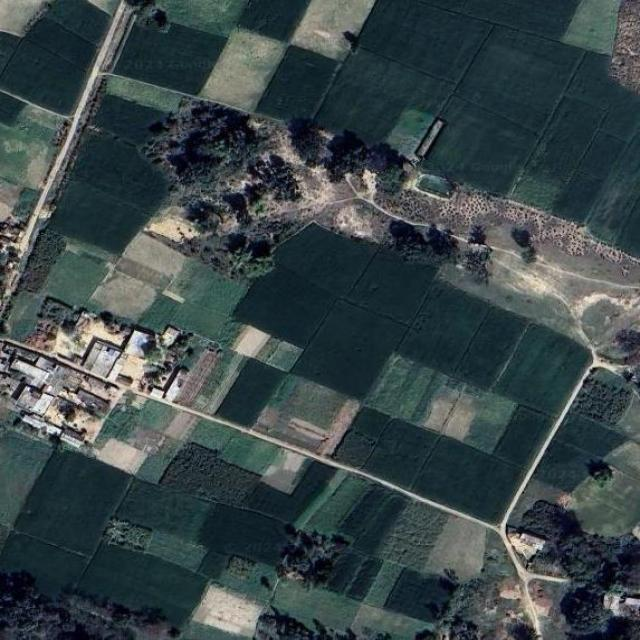land-Sx1C: (316, 50, 450, 143), (458, 27, 580, 129), (15, 451, 131, 554), (293, 300, 405, 397), (360, 0, 490, 81), (79, 544, 208, 624), (428, 98, 536, 193), (414, 438, 521, 522), (493, 325, 591, 413), (400, 282, 487, 374), (70, 133, 170, 213), (235, 269, 336, 347), (115, 24, 226, 93), (50, 180, 150, 253), (275, 224, 376, 296), (200, 29, 287, 111), (567, 51, 638, 144), (348, 251, 437, 323), (160, 442, 260, 506), (0, 40, 86, 113), (531, 98, 605, 182), (423, 0, 578, 39), (455, 306, 527, 388), (116, 480, 212, 541), (257, 46, 337, 119), (586, 134, 638, 243), (365, 354, 446, 423), (246, 461, 336, 522), (0, 104, 64, 189), (0, 533, 86, 593), (200, 504, 286, 564), (0, 431, 53, 528), (365, 419, 438, 487), (292, 0, 375, 59), (215, 359, 287, 426), (377, 501, 447, 569), (571, 469, 640, 536), (276, 525, 348, 585), (170, 259, 247, 314), (272, 581, 360, 629), (269, 375, 347, 429), (425, 516, 486, 580), (92, 95, 168, 145), (305, 477, 371, 534), (192, 585, 263, 637), (385, 569, 454, 622), (191, 350, 247, 414), (493, 405, 551, 466), (24, 20, 96, 69), (89, 270, 157, 321), (44, 251, 107, 306), (573, 367, 632, 425), (156, 0, 245, 36), (293, 470, 348, 528), (353, 495, 408, 553), (562, 0, 620, 54), (463, 393, 516, 452), (238, 0, 310, 41), (556, 414, 626, 456), (351, 604, 432, 640), (337, 485, 392, 538), (534, 441, 592, 491), (20, 229, 66, 292), (609, 0, 640, 93), (507, 479, 567, 526), (46, 0, 110, 44), (122, 233, 185, 277), (105, 77, 180, 113), (385, 107, 435, 159), (176, 349, 221, 406), (215, 564, 278, 604), (316, 399, 360, 456), (147, 531, 208, 571), (220, 434, 279, 474), (553, 173, 602, 221), (580, 131, 625, 182), (443, 385, 481, 441), (136, 439, 183, 483), (261, 449, 307, 493), (5, 290, 44, 341), (145, 206, 200, 242), (171, 304, 228, 338), (95, 405, 138, 448), (363, 561, 403, 607), (96, 439, 147, 474), (0, 0, 48, 36), (423, 386, 460, 432), (333, 429, 377, 467), (328, 549, 365, 592), (104, 518, 151, 551), (139, 295, 180, 332), (257, 338, 302, 371), (515, 176, 560, 208), (347, 558, 382, 599), (188, 420, 234, 451), (603, 440, 640, 478), (615, 196, 638, 257), (118, 258, 162, 286), (232, 325, 270, 357), (615, 394, 640, 442), (139, 400, 176, 432), (415, 119, 444, 158), (353, 407, 389, 438), (127, 427, 165, 454), (0, 180, 23, 222), (165, 411, 197, 441), (0, 91, 26, 126), (197, 551, 229, 579), (215, 321, 246, 348), (2, 31, 21, 73), (12, 189, 38, 219), (226, 556, 255, 579), (87, 0, 120, 14), (162, 292, 185, 303), (1, 524, 11, 549)
